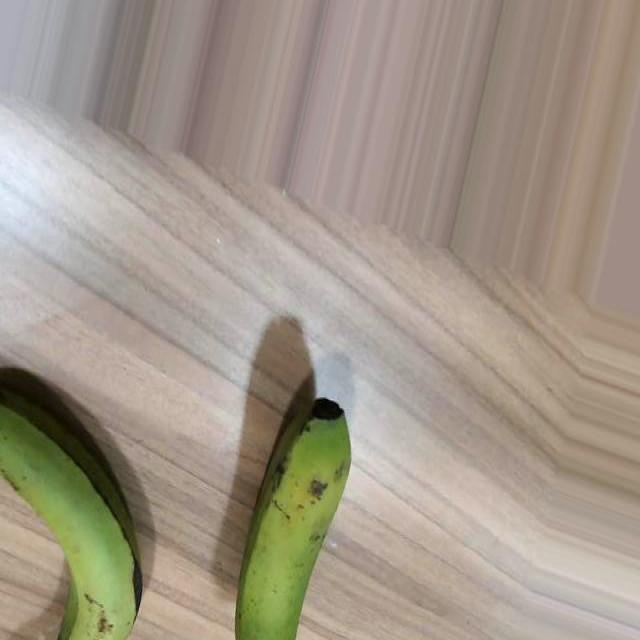Unripe: (0, 384, 143, 640), (235, 399, 353, 640)
